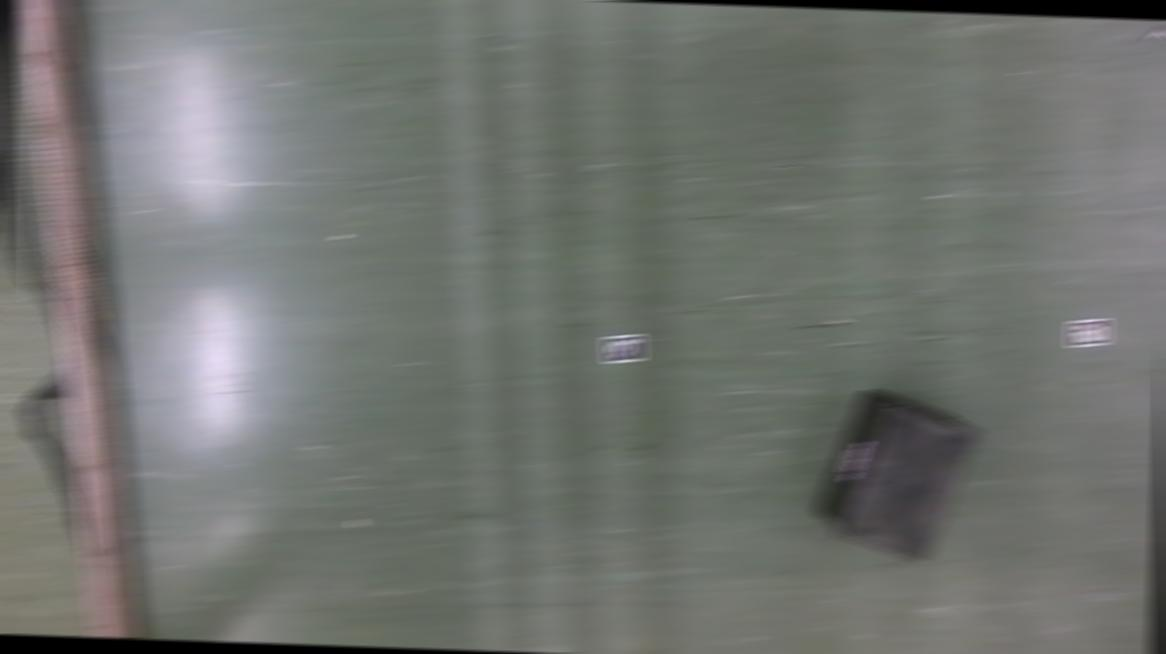probes: (1146, 19, 1166, 43)
rako: (810, 386, 982, 564)
